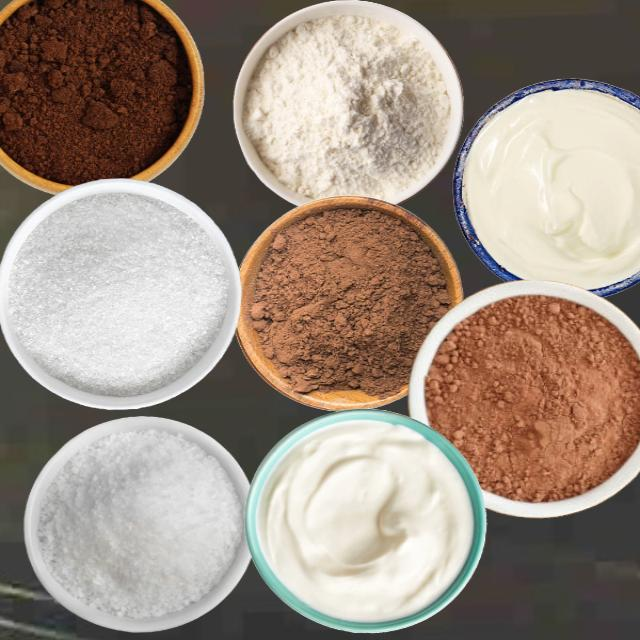Cocoa: (423, 293, 639, 503), (240, 199, 456, 407)
Coffee: (0, 0, 192, 185)
Flour: (242, 13, 450, 203)
Sugar: (5, 191, 228, 396), (36, 428, 243, 619)
